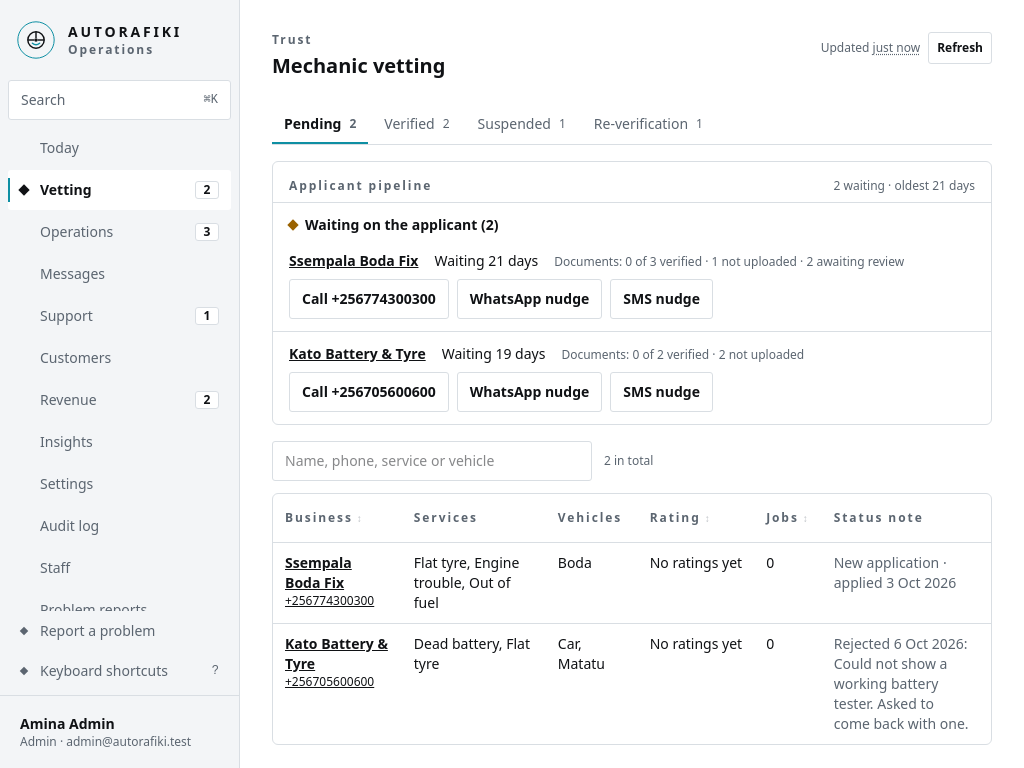
Test: vetting queues › surfaces mechanics due for re-verification, including those with no record
Click the button "Re-verification 1": (648, 124) [582, 104, 715, 144]
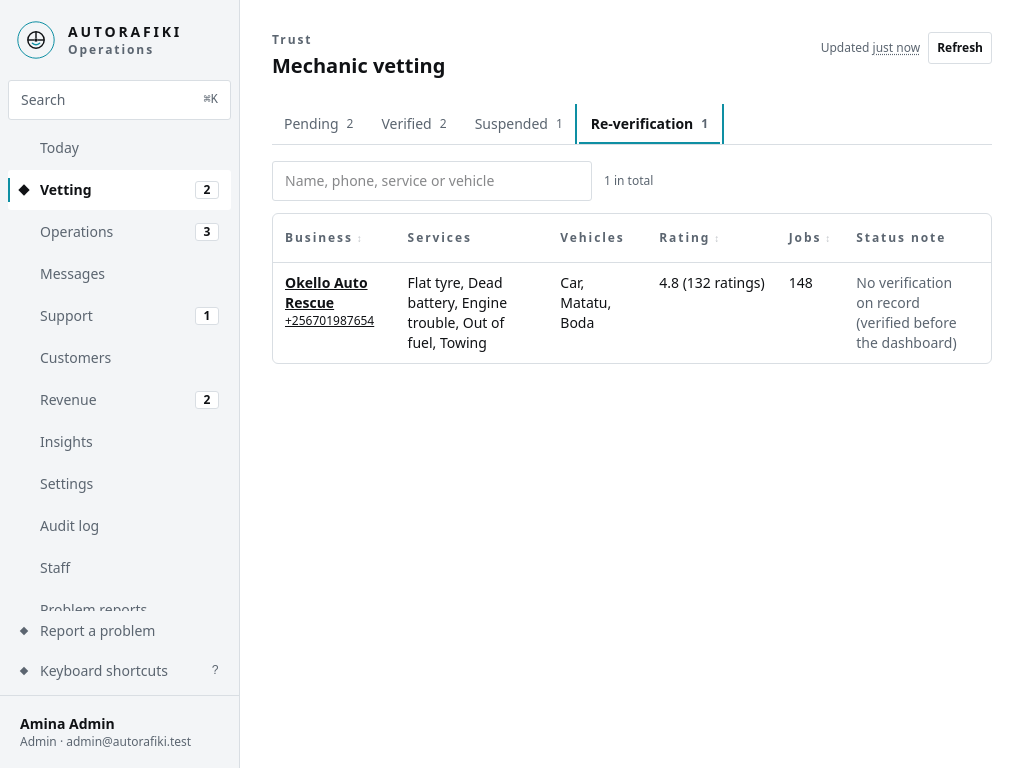
Expected: the row "Okello Auto Rescue" shows "No verification on record", [856, 273, 957, 352]
